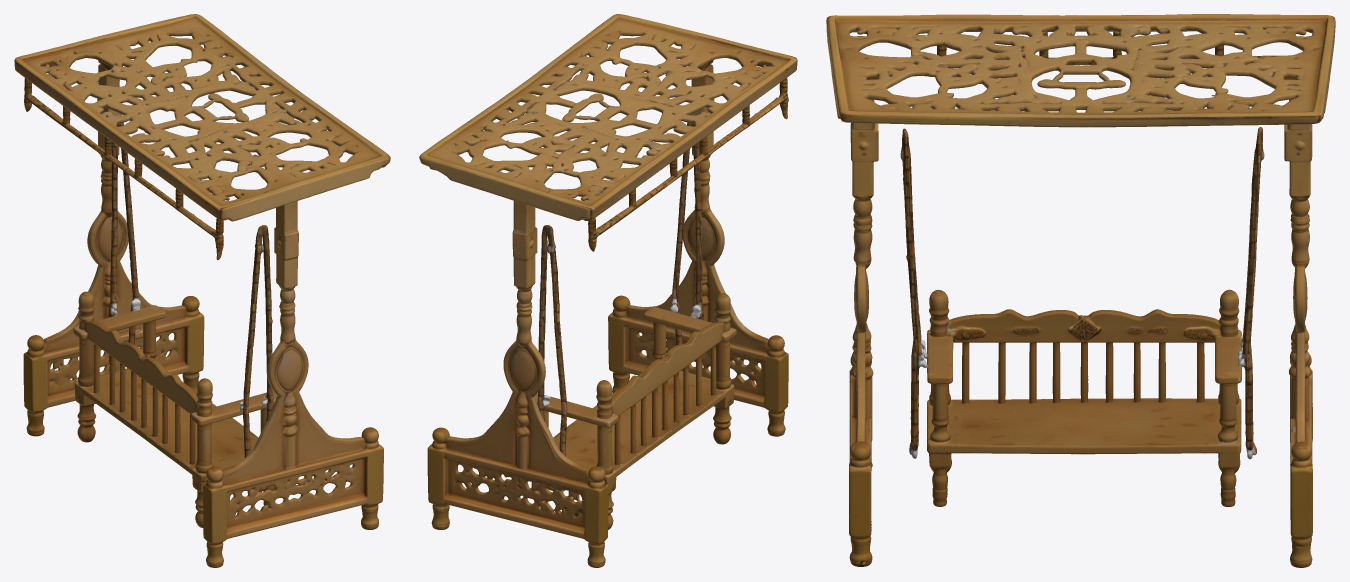
File: wooden swing 3d model.glb
3 views of the same model, side by side, from view 1: azimuth 30°, elevation 25°; view 2: azimuth 150°, elevation 25°; view 3: azimuth 270°, elevation 25° (orthographic). The views are drawn at different scales.
Visible parts, largest first — view 1: tripo_node_0216a092-a3f4-4ee7-8009-bf4178a0c065; view 2: tripo_node_0216a092-a3f4-4ee7-8009-bf4178a0c065; view 3: tripo_node_0216a092-a3f4-4ee7-8009-bf4178a0c065.
Boxes of the visible parts, x1=… form: tripo_node_0216a092-a3f4-4ee7-8009-bf4178a0c065: x1=14, y1=14, x2=390, y2=567; tripo_node_0216a092-a3f4-4ee7-8009-bf4178a0c065: x1=419, y1=14, x2=797, y2=567; tripo_node_0216a092-a3f4-4ee7-8009-bf4178a0c065: x1=826, y1=14, x2=1335, y2=567.
Bounding box in the file's own units: 0.5026 × 0.9944 × 1.
1 material, 1 textured.
